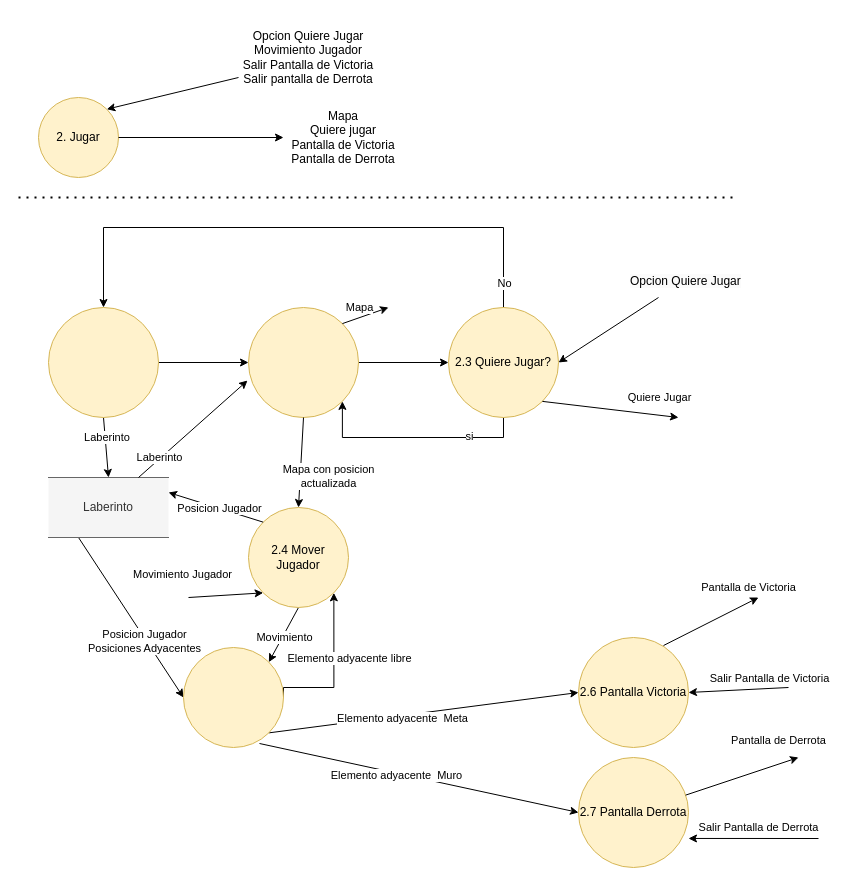
The diagram is 846 pixels wide and 885 high, and some of its shapes have lost their labels. The centre of each missing label's shape, as x and y in pixels:
"2.1 Generar Mapa" goes at (103,362).
"2.2 Mostrar Mapa" goes at (303,362).
"2.5 Validar Movimiento" goes at (233,697).
